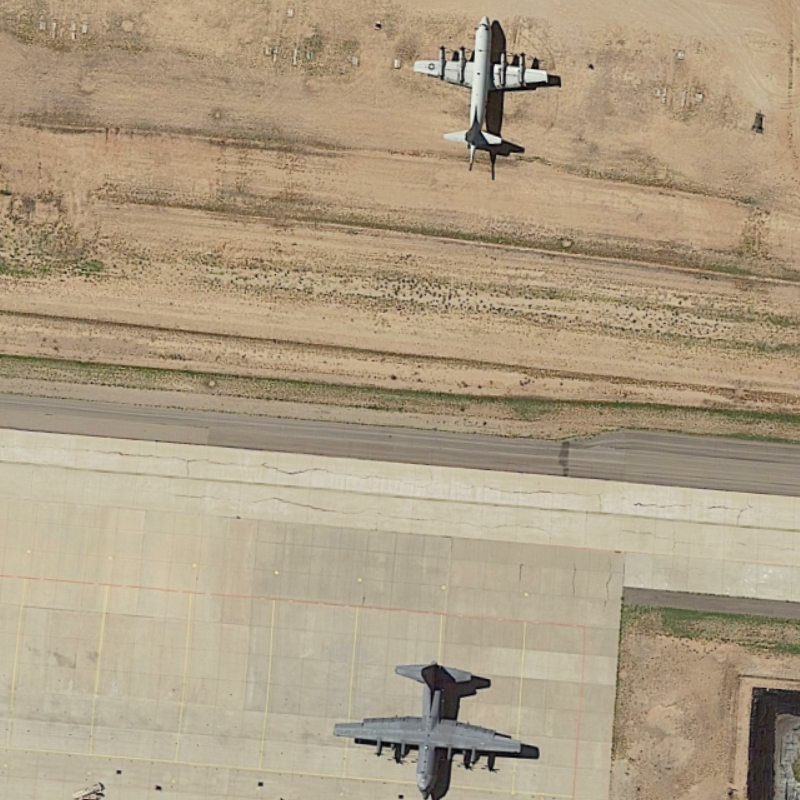A2: (328, 655, 536, 800)
A9: (410, 10, 560, 179)
